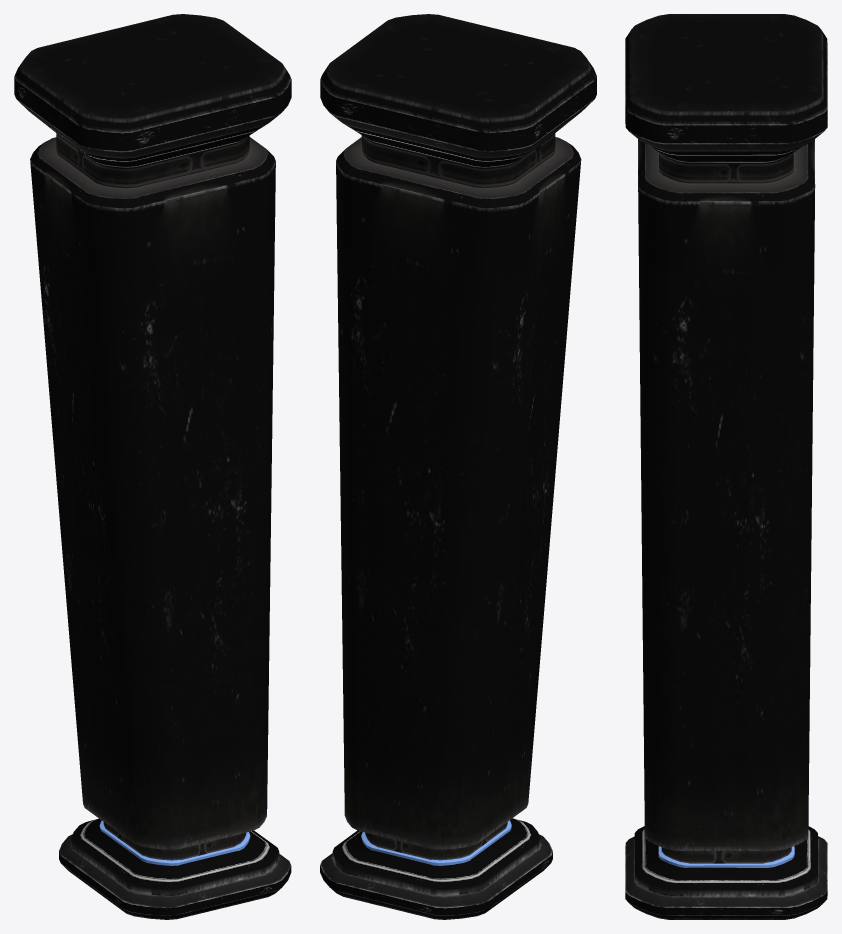
The model's file is SM_Column_A.FBX.
3 renders of one model, left to right at view 1: azimuth 30°, elevation 25°; view 2: azimuth 150°, elevation 25°; view 3: azimuth 270°, elevation 25°, orthographic.
Visible parts, largest first — view 1: SM_Column_A; view 2: SM_Column_A; view 3: SM_Column_A.
Part boxes in pixels (x1,y1,x2,y2): SM_Column_A: (14, 14, 291, 919); SM_Column_A: (320, 14, 596, 919); SM_Column_A: (625, 14, 827, 919).
Size of the model in its own units: 109 by 400 by 90.83.
2 materials, 1 textured.
